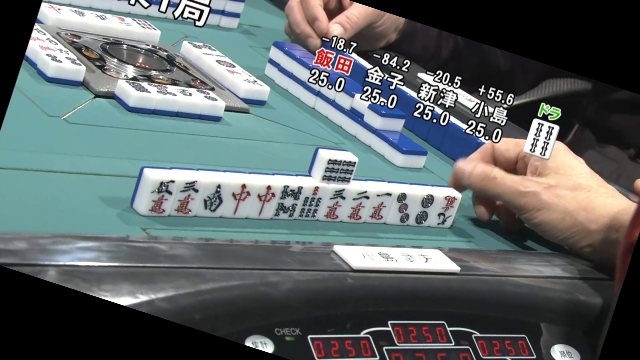Tehai: (129, 157, 468, 239)
